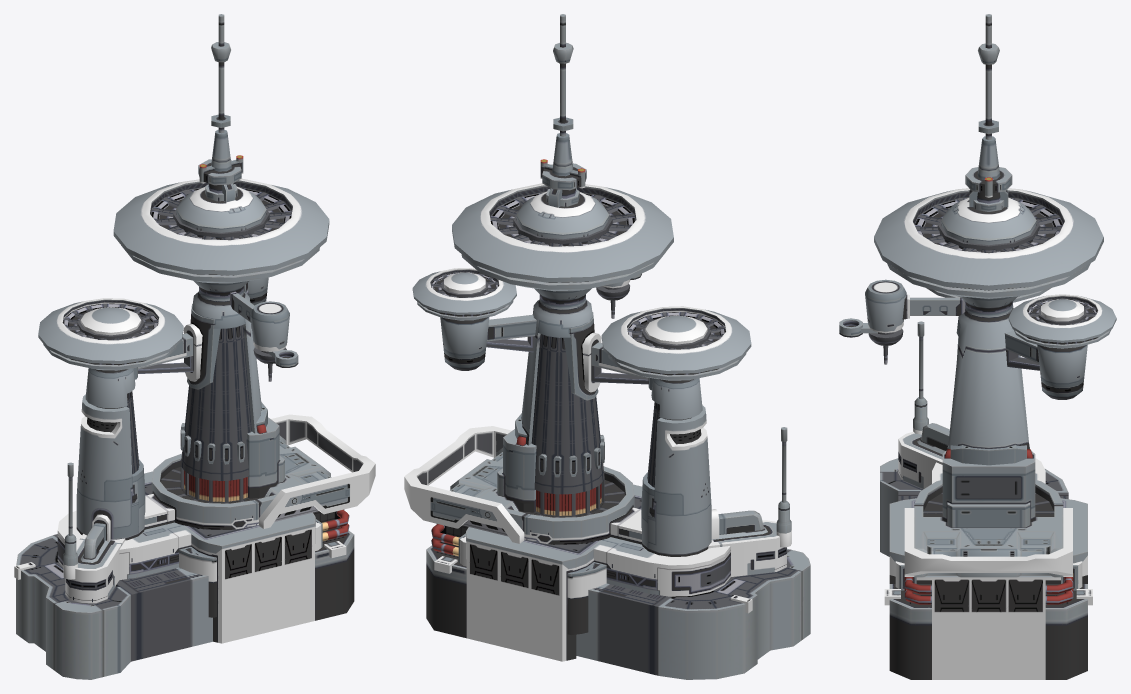
The model's file is hadron-collider.glb.
3 views of the same model, side by side, from view 1: azimuth 30°, elevation 25°; view 2: azimuth 150°, elevation 25°; view 3: azimuth 270°, elevation 25° (orthographic). The views are drawn at different scales.
Visible parts, largest first — view 1: hadron-collider, hadron-collider-2-1, hadron-collider-2-2; view 2: hadron-collider, hadron-collider-2-1, hadron-collider-2-2; view 3: hadron-collider, hadron-collider-2-1, hadron-collider-1.
Part boxes in pixels (<box>): hadron-collider: <box>14,14,375,679</box>; hadron-collider-2-1: <box>151,187,291,240</box>; hadron-collider-2-2: <box>63,303,158,340</box>; hadron-collider: <box>404,14,810,679</box>; hadron-collider-2-1: <box>490,192,635,246</box>; hadron-collider-2-2: <box>627,312,725,349</box>; hadron-collider: <box>865,14,1116,679</box>; hadron-collider-2-1: <box>914,198,1063,253</box>; hadron-collider-1: <box>839,318,877,337</box>.
Bounding box in the file's own units: 11.08 × 19.14 × 7.82.
Materials: 1 (1 with a texture image).
